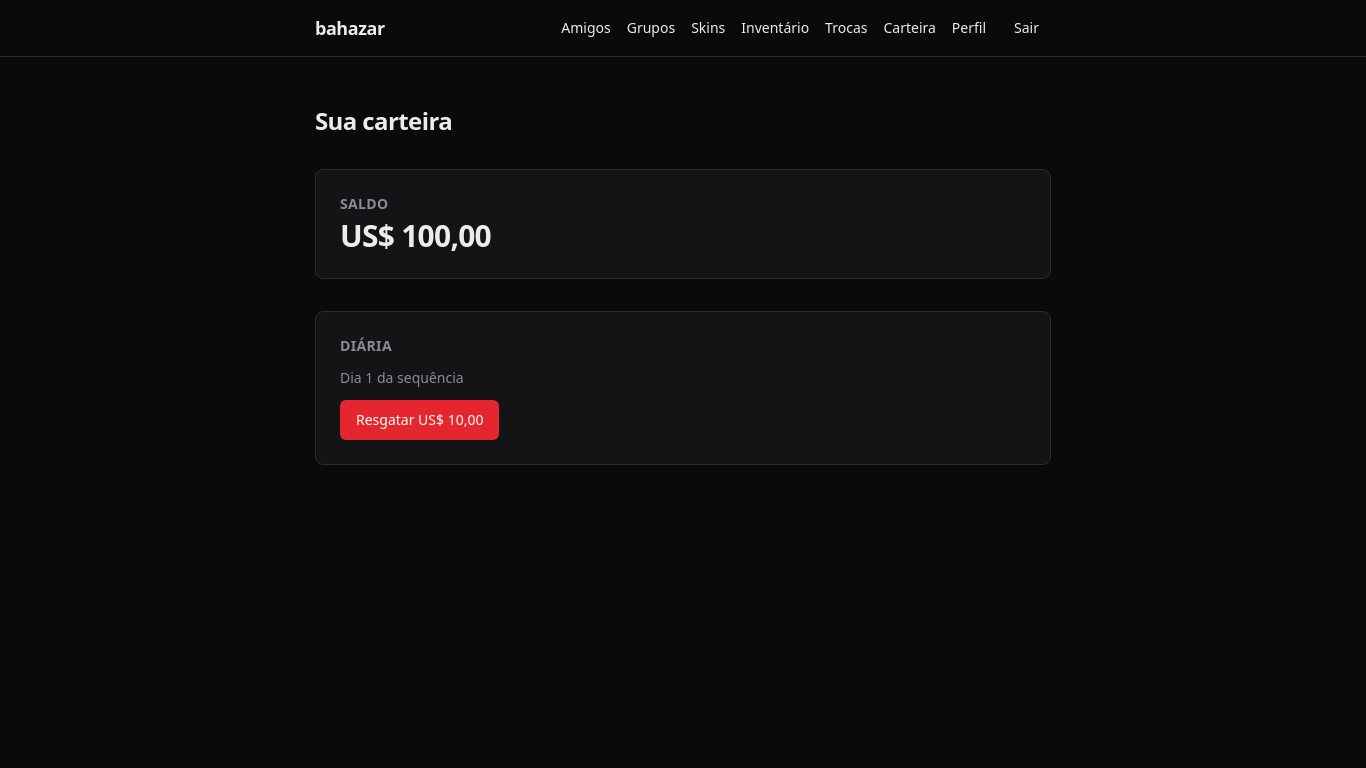
WalletPage › clicar em Resgatar faz um POST com token CSRF e mostra o que foi recebido
Click the button "Resgatar US$ 10,00": (420, 420) [340,400,500,440]
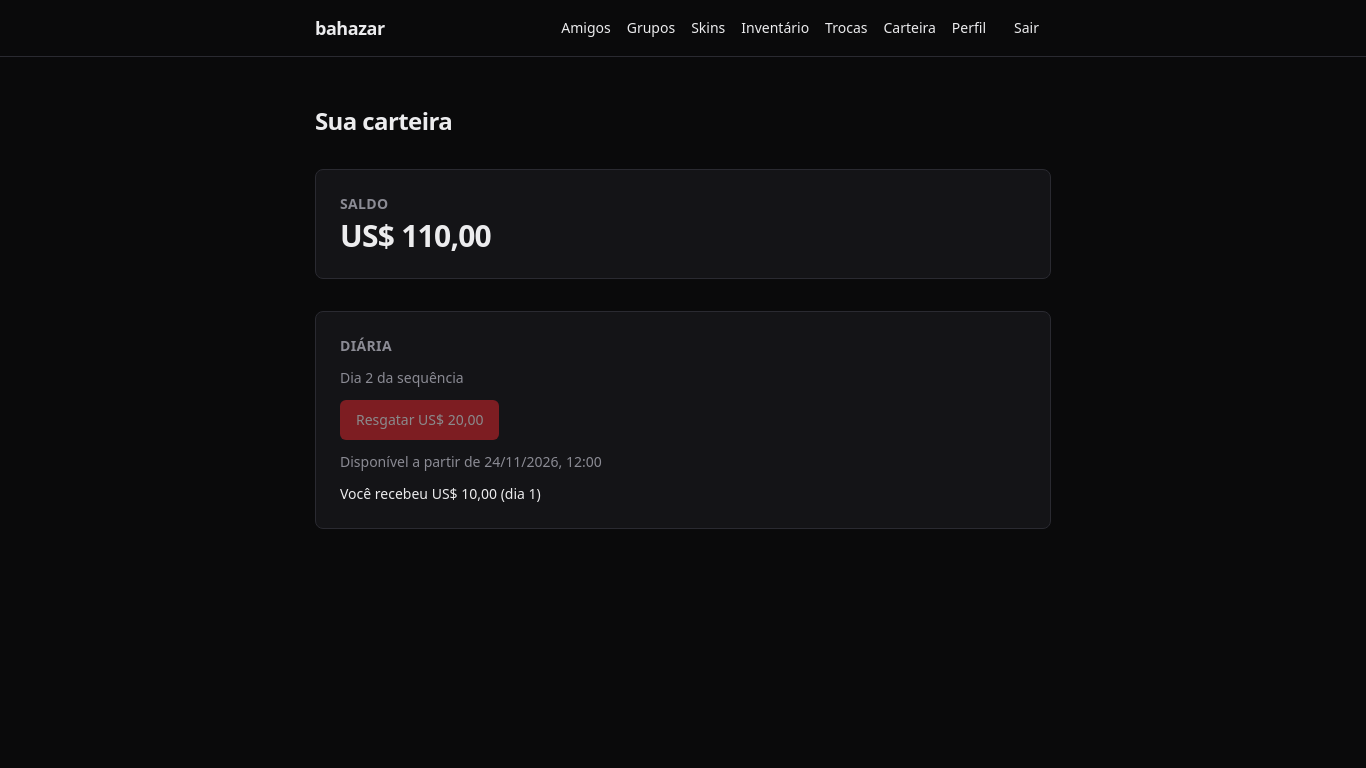
expect the message reads "Você recebeu US$ 10,00 (dia 1)": met, box [340,484,541,503]
expect the text with test id "saldo" reads "US$ 110,00": met, box [340,215,491,256]
expect the button "Resgatar US$ 20,00" is disabled: met, box [340,400,500,440]
